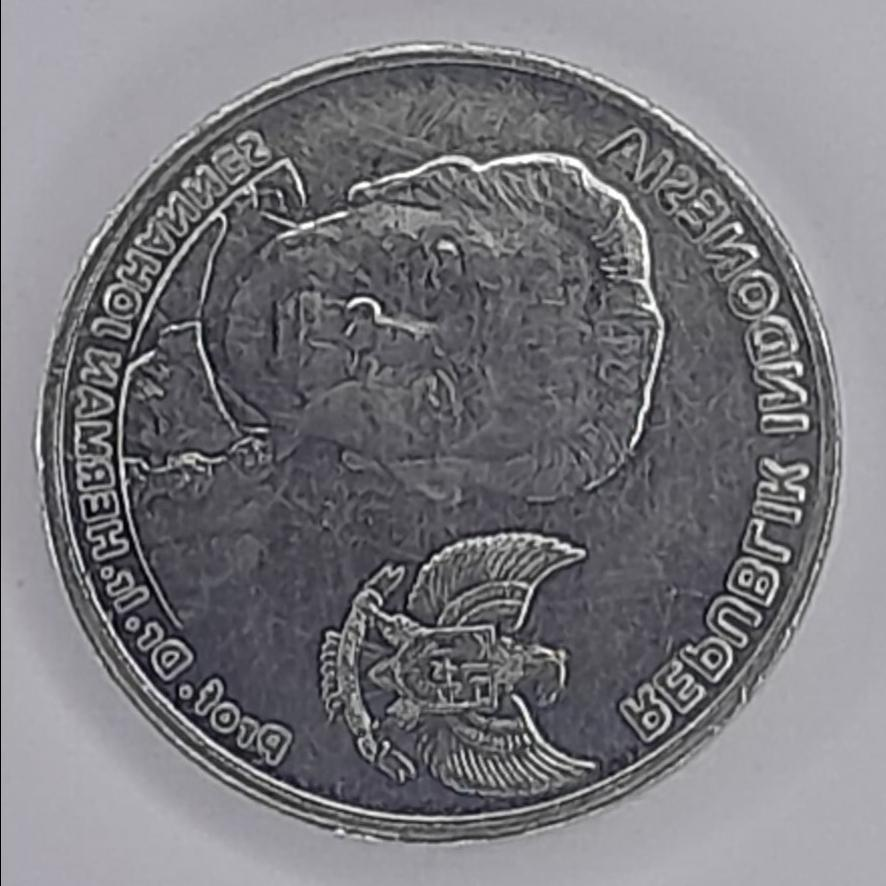coin_100_e2016: (29, 34, 848, 848)
